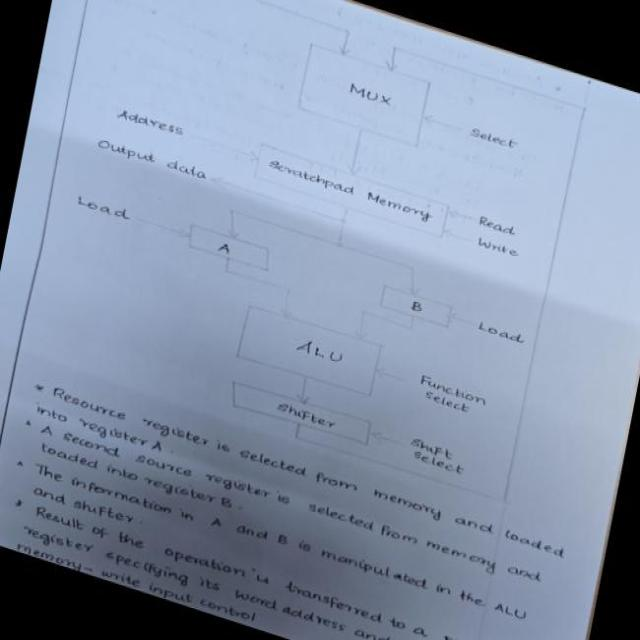Figure Detection - v3 Dataset Version2: (16, 0, 622, 529)
